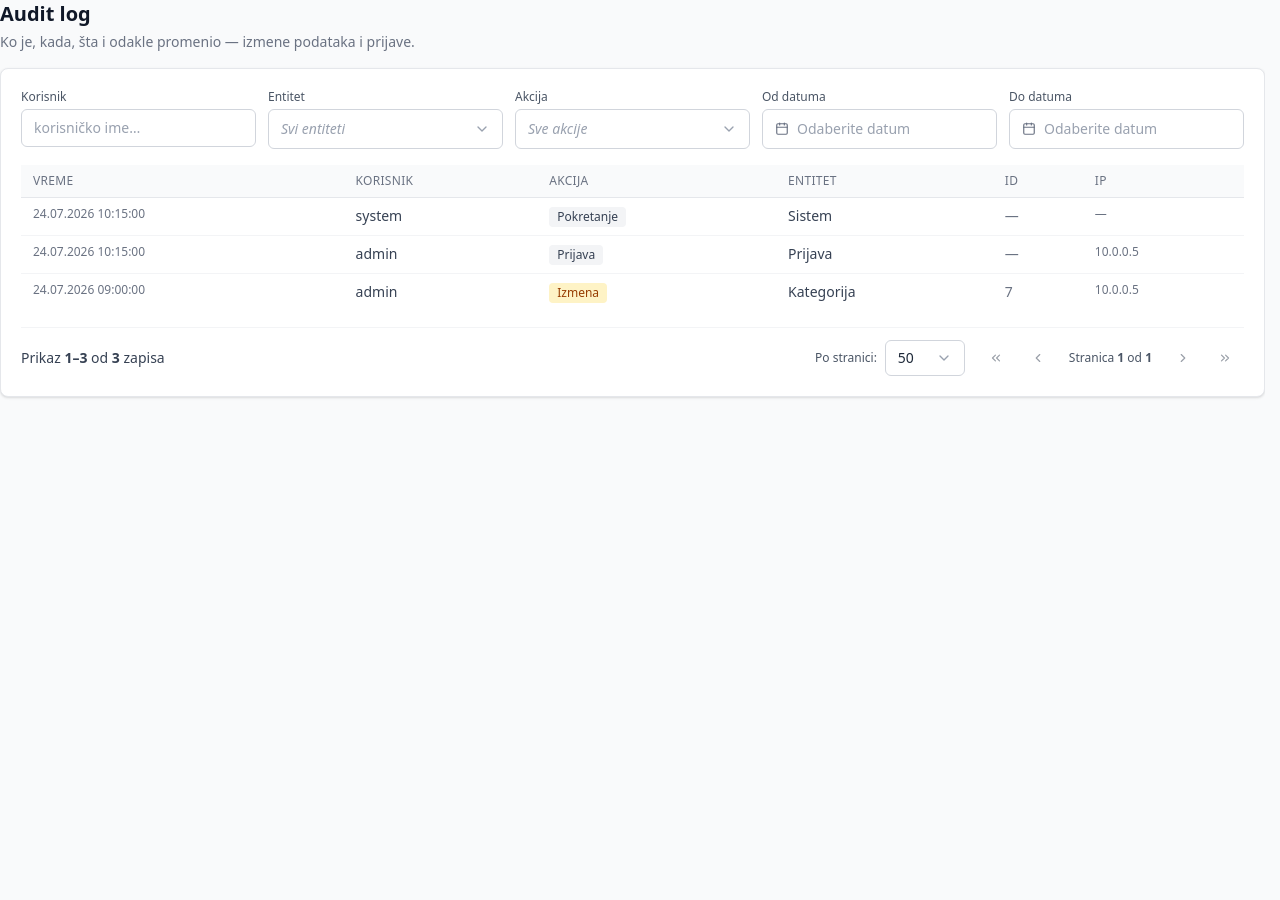
Test case: AuditLogPage › klik na red otvara modal sa diff prikazom
This screenshot has width=1280, height=900.
Click the text "Kategorija": point(822, 292) x1=776 y1=274 x2=993 y2=311
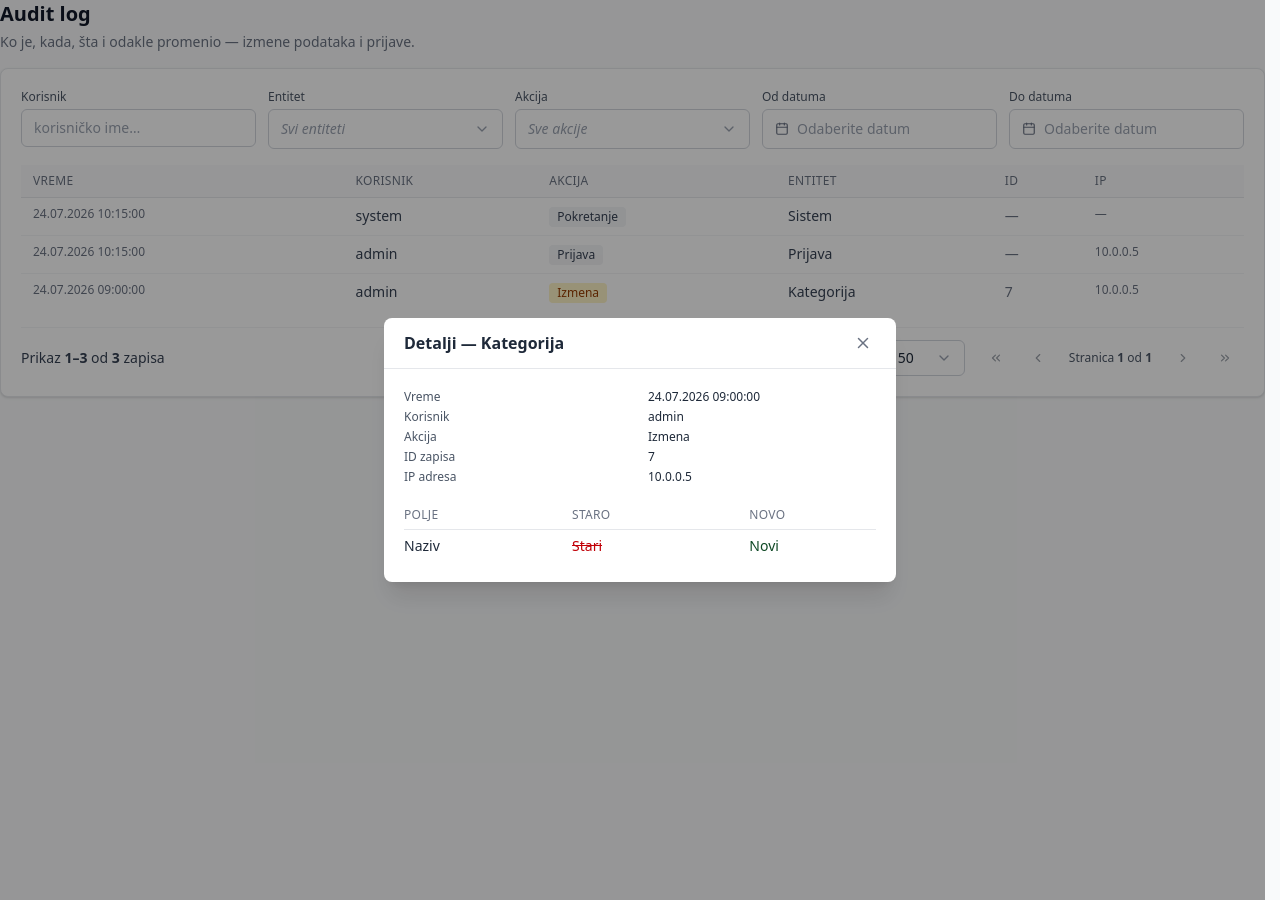
Now the text "Stari" is shown, box x1=572 y1=530 x2=749 y2=562
Now the text "Novi" is shown, box x1=749 y1=530 x2=876 y2=562
